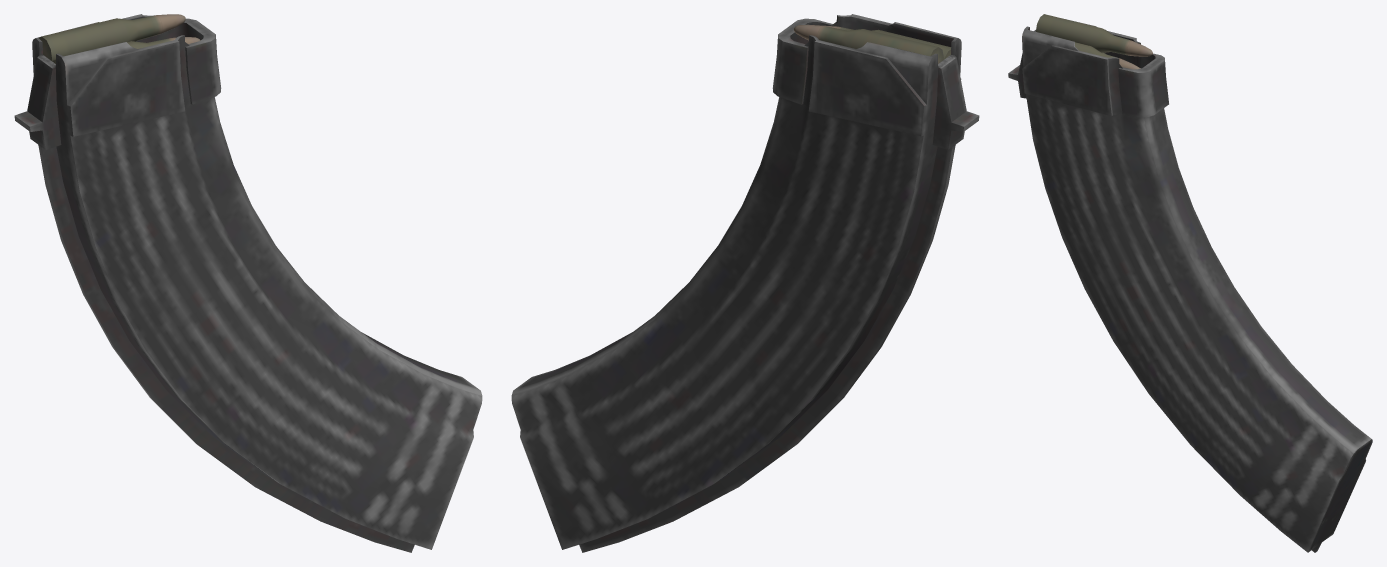
File: ST_Mag_EX_Groza.FBX
3 renders of one model, left to right at view 1: azimuth 30°, elevation 25°; view 2: azimuth 150°, elevation 25°; view 3: azimuth 330°, elevation 25°, orthographic. The views are drawn at different scales.
Visible parts, largest first — view 1: ST_Mag_EX_Groza; view 2: ST_Mag_EX_Groza; view 3: ST_Mag_EX_Groza.
Boxes of the visible parts, x1,y1,x2,y2 form: ST_Mag_EX_Groza: (14,14,482,552); ST_Mag_EX_Groza: (511,14,979,552); ST_Mag_EX_Groza: (1008,14,1372,552).
Size of the model in its own units: 17.66 by 22.38 by 2.57.
1 material, 1 textured.
